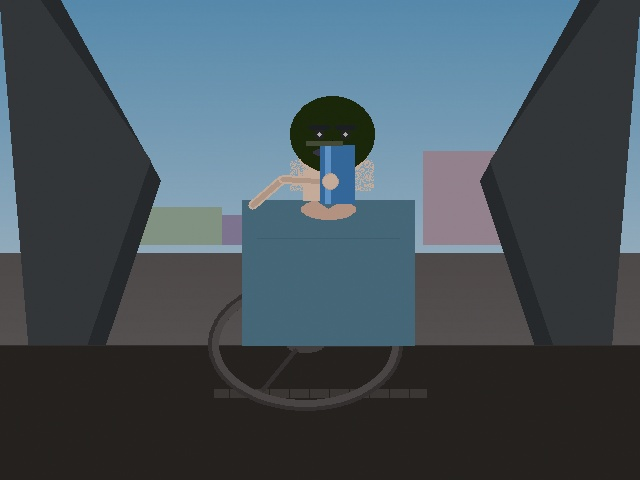drinking: (297, 131, 364, 213)
